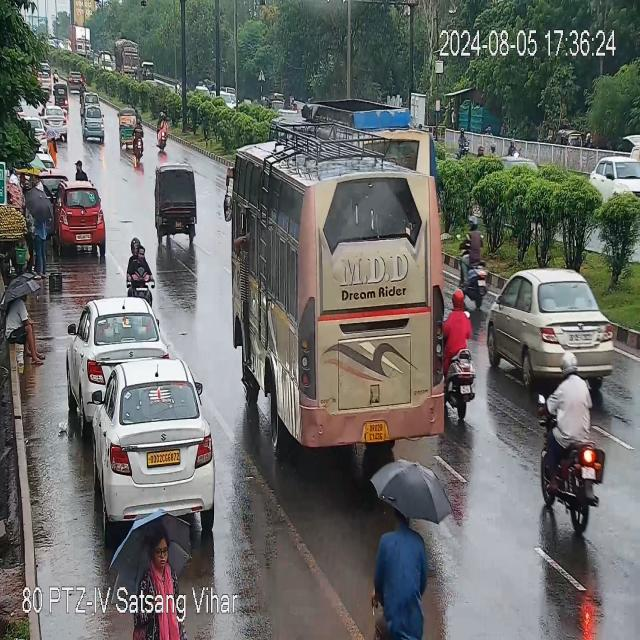2-wheelers: (538, 356, 604, 530), (374, 504, 428, 638), (440, 293, 476, 419), (125, 242, 154, 297), (152, 116, 174, 152), (131, 126, 147, 159), (456, 126, 468, 156)
auto: (157, 172, 201, 237), (118, 108, 136, 150), (263, 90, 283, 116), (56, 84, 72, 111)
bus: (235, 168, 447, 454)
car: (80, 357, 218, 522), (489, 272, 624, 380), (78, 296, 172, 403), (56, 188, 105, 250), (593, 154, 640, 199), (80, 108, 106, 144), (42, 104, 68, 138)
pedestrian: (139, 530, 187, 608), (4, 286, 47, 360), (31, 190, 49, 276)
truck: (116, 40, 140, 83), (71, 22, 93, 60)
